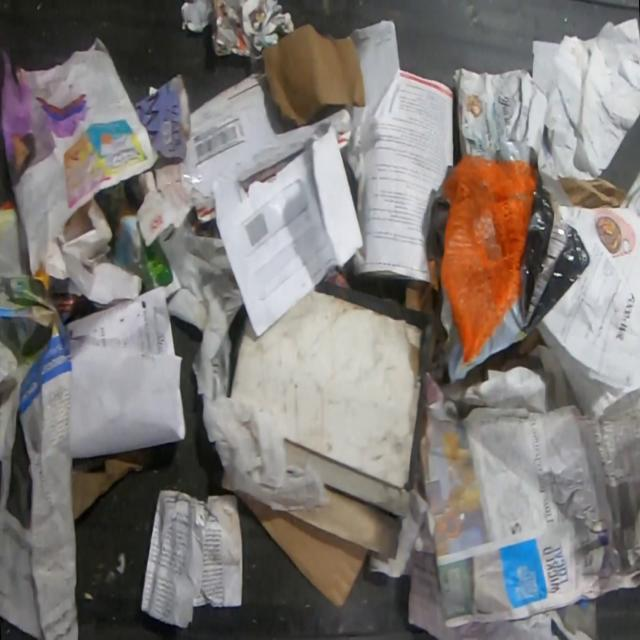cardboard: (227, 277, 434, 493), (127, 64, 352, 247), (235, 491, 371, 608), (260, 23, 364, 125), (72, 444, 158, 522)
rigid_plastic: (438, 152, 535, 364)
soft_plastic: (516, 162, 590, 336)
